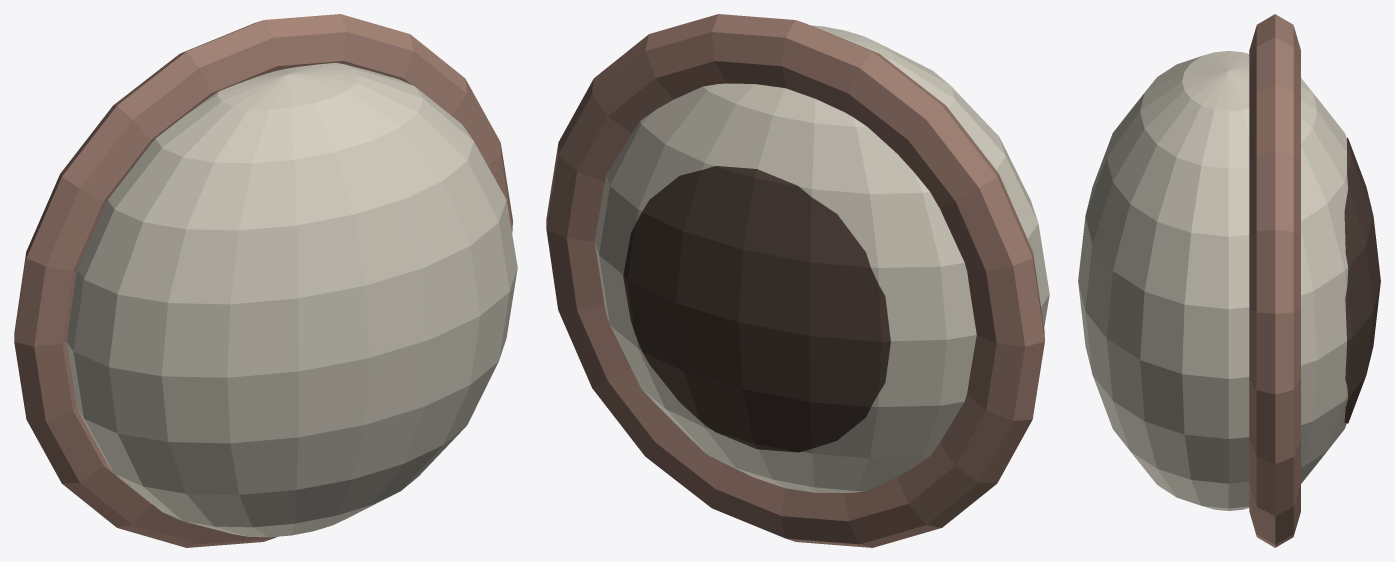
File: gazer_eye_r_original_01.glb
The picture shows the model from 3 angles, left to right: view 1: azimuth 30°, elevation 25°; view 2: azimuth 150°, elevation 25°; view 3: azimuth 270°, elevation 25°; orthographic projection. The views are drawn at different scales.
Parts seen in each view (by area): view 1: G0_ScleraR, G0_LidR; view 2: G0_LidR, G0_ScleraR, G0_IrisR; view 3: G0_ScleraR, G0_LidR, G0_IrisR.
Boxes of the visible parts, x1,y1,x2,y2 form: G0_ScleraR: (66,62,517,537); G0_LidR: (14,14,512,547); G0_LidR: (546,14,1044,547); G0_ScleraR: (594,25,1049,492); G0_IrisR: (623,166,890,452); G0_ScleraR: (1078,51,1348,510); G0_LidR: (1249,14,1300,547); G0_IrisR: (1344,137,1380,423).
Bounding box in the file's own units: 0.232 × 0.232 × 0.1306.
